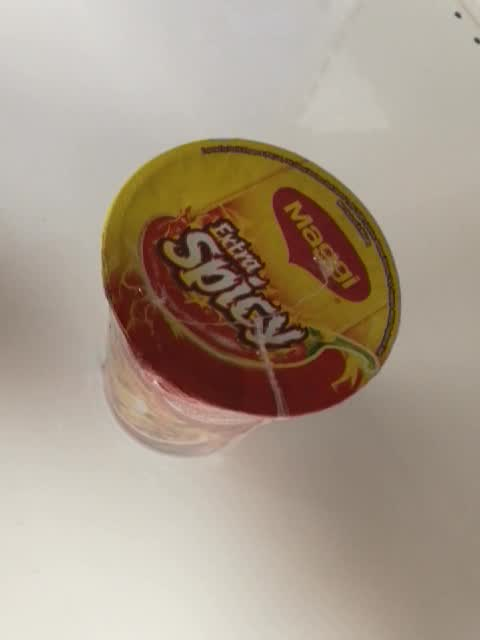maggi: (99, 137, 401, 459)
